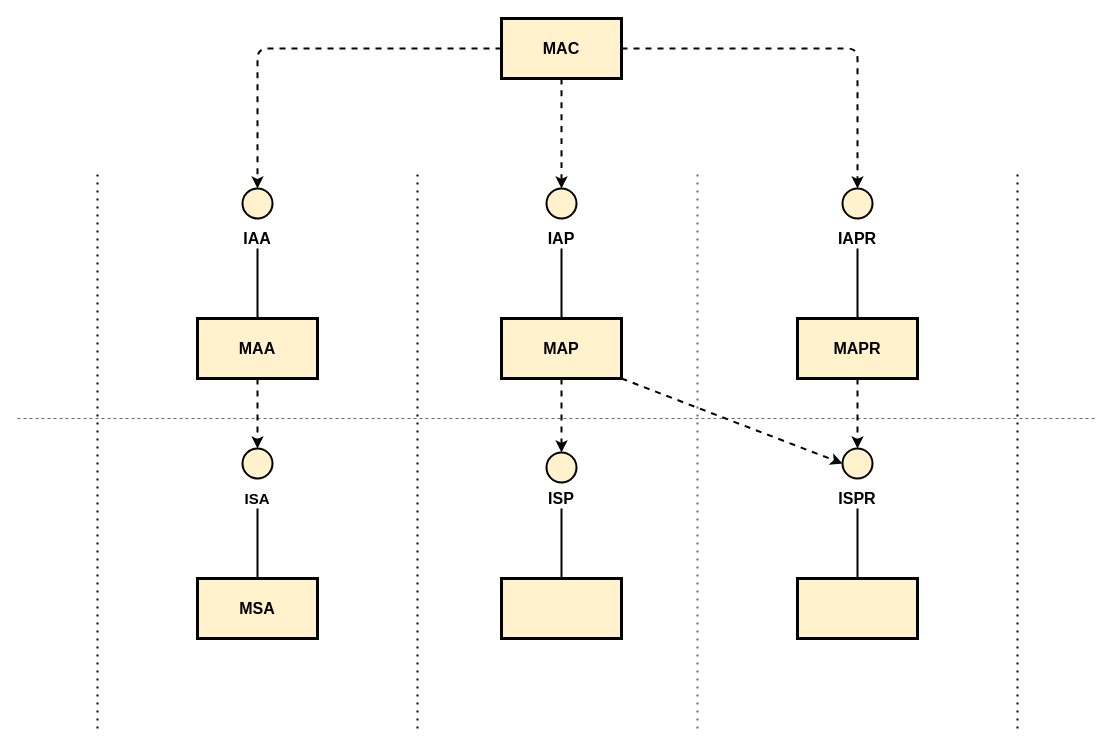
The diagram is 1116 pixels wide and 748 high, and some of its shapes have lost their labels. Here are the shapes that lost their labels. From the top down, the box of each, then its label:
(500, 576, 622, 640): MSP
(796, 576, 918, 640): MSPR
